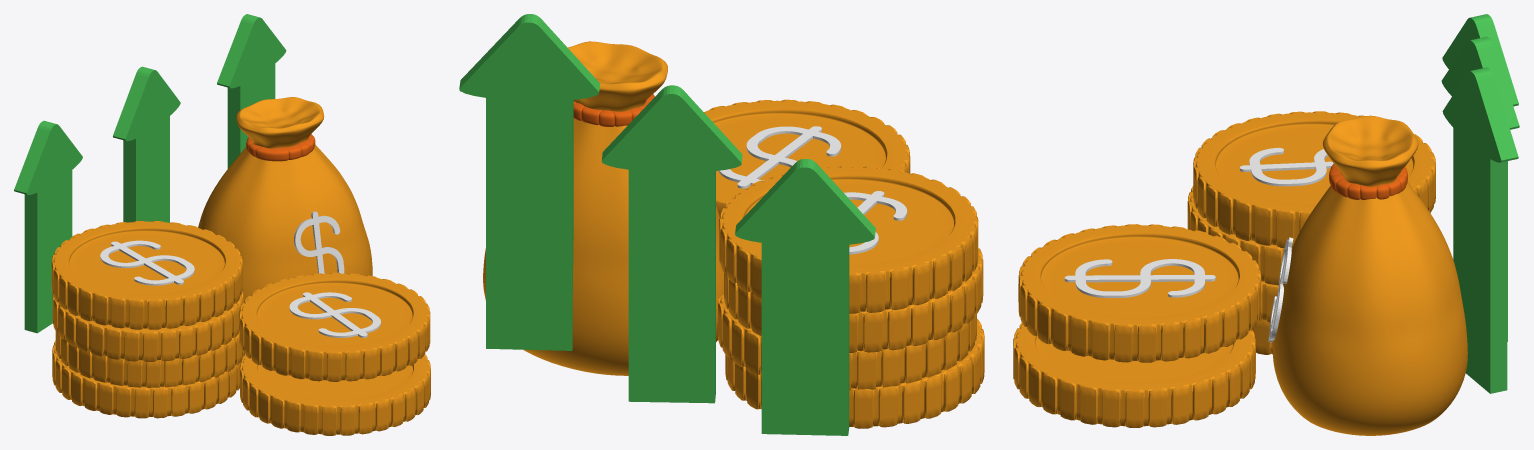
File: profit-3d-animated-icon-1438042078062.glb
The picture shows the model from 3 angles, left to right: view 1: azimuth 30°, elevation 25°; view 2: azimuth 150°, elevation 25°; view 3: azimuth 270°, elevation 25°; orthographic projection. The views are drawn at different scales.
Parts seen in each view (by area): view 1: Cube, Cylinder.005, Cylinder.003, Cylinder.004, Plane, Plane.001, Cylinder.002, Cylinder, Cylinder.001, Plane.002, Curve.003, Curve.001 (+2 smaller); view 2: Plane.002, Plane.001, Plane, Cube, Cylinder.003, Cylinder.005, Cylinder.002, Cylinder, Cylinder.001, Curve.001, Cube.001, Curve.003; view 3: Cube, Cylinder.005, Cylinder.004, Plane.002, Cylinder.003, Curve.001, Plane.001, Cylinder.002, Curve.003, Plane, Cube.001, Curve.002 (+2 smaller).
Part boxes in pixels (left/top/right/bottom): Cube: left=198, top=97, right=372, bottom=302; Cylinder.005: left=239, top=272, right=430, bottom=381; Cylinder.003: left=51, top=221, right=242, bottom=329; Cylinder.004: left=240, top=354, right=430, bottom=435; Plane: left=14, top=120, right=82, bottom=333; Plane.001: left=113, top=66, right=180, bottom=222; Cylinder.002: left=52, top=290, right=243, bottom=361; Cylinder: left=52, top=340, right=242, bottom=418; Cylinder.001: left=55, top=331, right=244, bottom=387; Plane.002: left=217, top=14, right=286, bottom=168; Curve.003: left=100, top=240, right=194, bottom=285; Curve.001: left=289, top=292, right=380, bottom=337; Plane.002: left=459, top=14, right=600, bottom=350; Plane.001: left=601, top=85, right=742, bottom=403; Plane: left=735, top=159, right=875, bottom=435; Cube: left=483, top=41, right=723, bottom=375; Cylinder.003: left=719, top=165, right=978, bottom=313; Cylinder.005: left=704, top=99, right=910, bottom=216; Cylinder.002: left=724, top=248, right=983, bottom=352; Cylinder: left=725, top=319, right=984, bottom=428; Cylinder.001: left=717, top=294, right=976, bottom=390; Curve.001: left=718, top=126, right=841, bottom=188; Cube.001: left=573, top=94, right=654, bottom=126; Curve.003: left=844, top=191, right=907, bottom=254; Cube: left=1272, top=115, right=1467, bottom=435; Cylinder.005: left=1018, top=224, right=1261, bottom=362; Cylinder.004: left=1013, top=322, right=1255, bottom=427; Plane.002: left=1442, top=67, right=1518, bottom=393; Cylinder.003: left=1193, top=111, right=1435, bottom=247; Curve.001: left=1064, top=259, right=1215, bottom=298; Plane.001: left=1441, top=36, right=1519, bottom=341; Cylinder.002: left=1187, top=186, right=1291, bottom=285; Curve.003: left=1240, top=147, right=1333, bottom=186; Plane: left=1442, top=14, right=1518, bottom=106; Cube.001: left=1329, top=164, right=1407, bottom=199; Curve.002: left=1268, top=237, right=1293, bottom=342.
Size of what is drawn, in the model's own units: 2.86 by 2.35 by 3.06.
